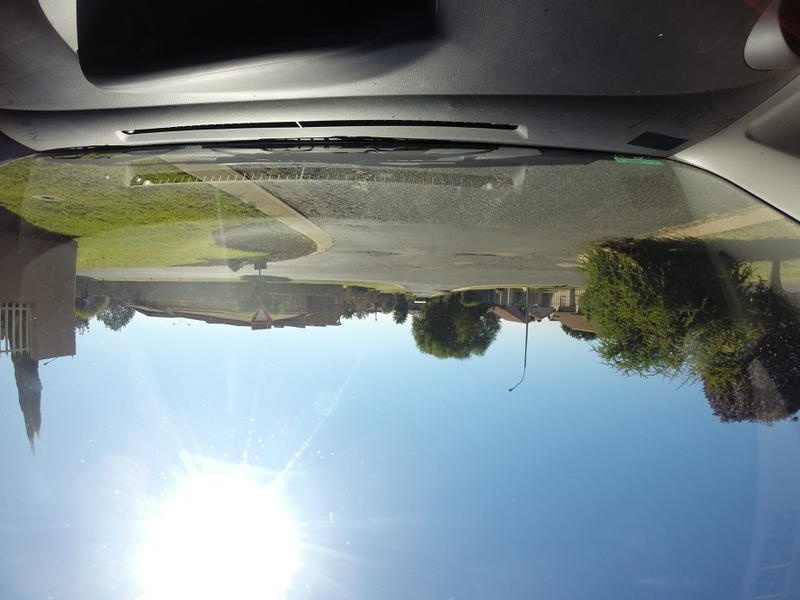pothole: (454, 243, 512, 260), (356, 243, 404, 260)
